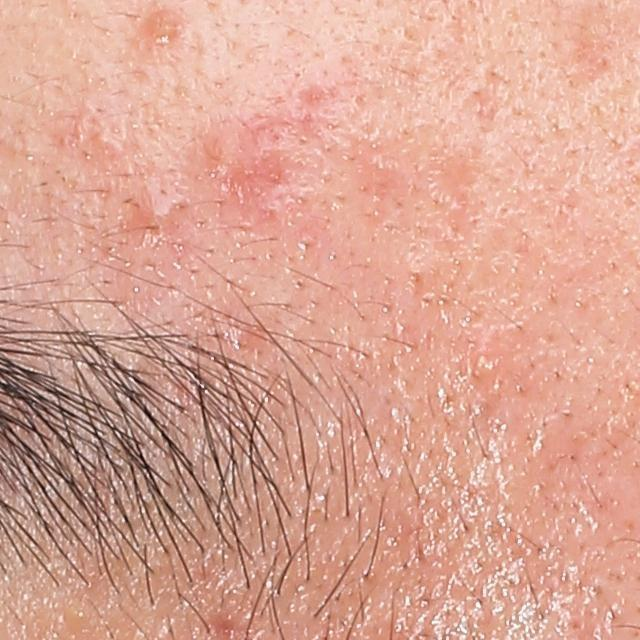papule: (141, 2, 182, 48)
